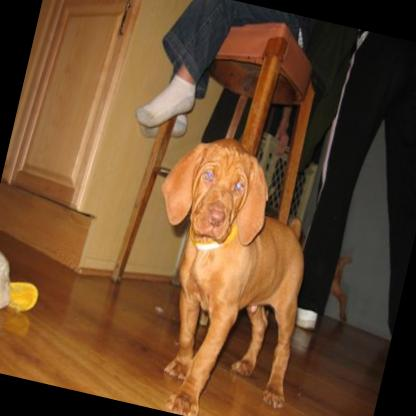vizsla: (112, 124, 340, 416)
